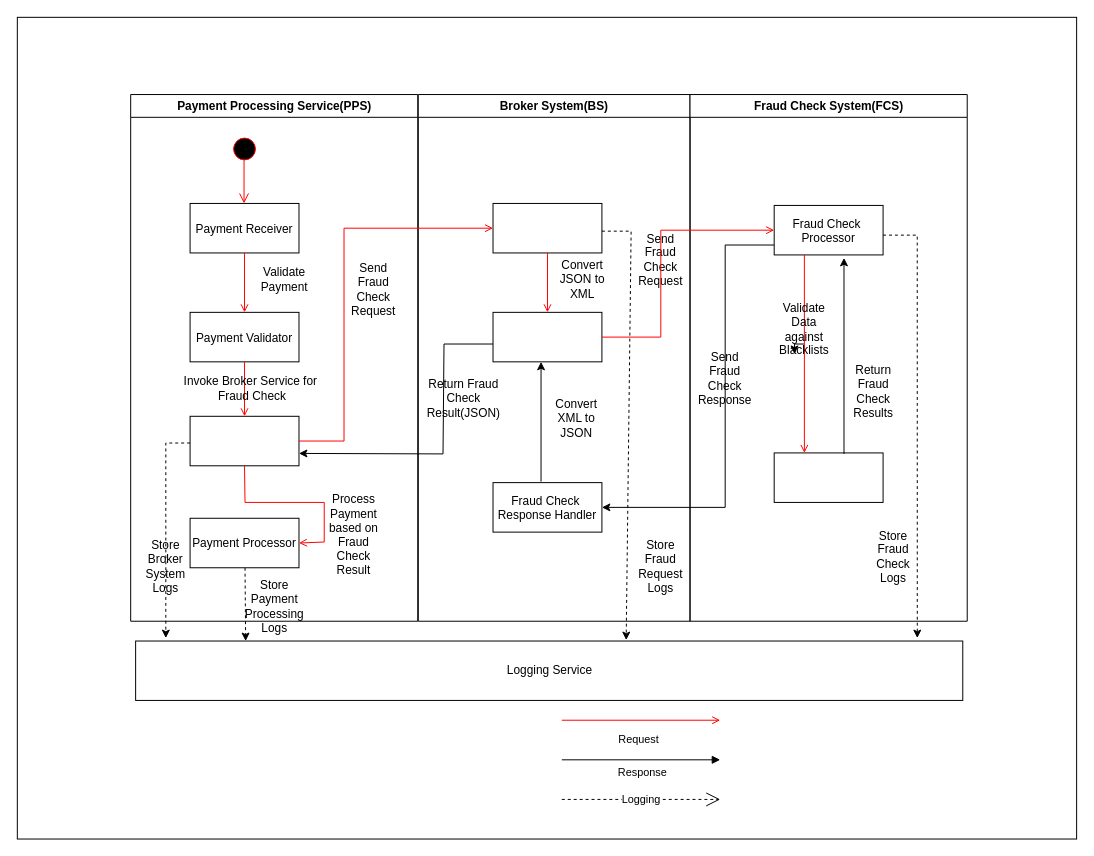
This 1094x856 diagram has some shape labels left out. The shapes that lost their labels are listed below. From the top down, each one's centre as x and y in pixels, then its label:
the point at 547,227: Fraud Check Request Handler
the point at 547,336: XML Converter
the point at 244,440: Broker Invoker
the point at 828,477: Blacklist Validator
